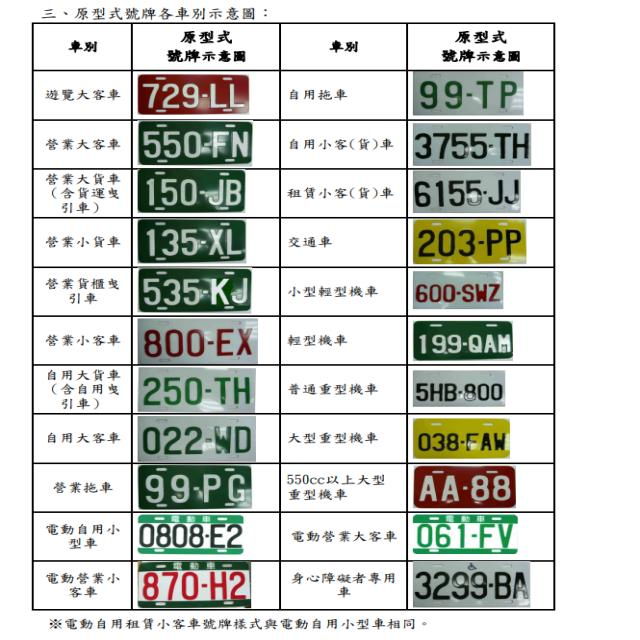GW: (139, 466, 250, 509), (138, 219, 245, 262), (140, 269, 249, 311), (140, 122, 251, 163), (138, 170, 244, 212), (414, 321, 512, 360)
RW: (413, 465, 514, 508), (139, 75, 248, 114)
W: (415, 561, 528, 607), (413, 122, 530, 165), (413, 170, 520, 212), (139, 514, 243, 554), (414, 370, 504, 406)
WG: (139, 366, 254, 411), (139, 416, 255, 460), (414, 71, 523, 115), (413, 514, 516, 553)
WR: (137, 563, 250, 612), (138, 318, 258, 363), (413, 271, 502, 308)
Y: (413, 220, 525, 264), (413, 418, 509, 458)
